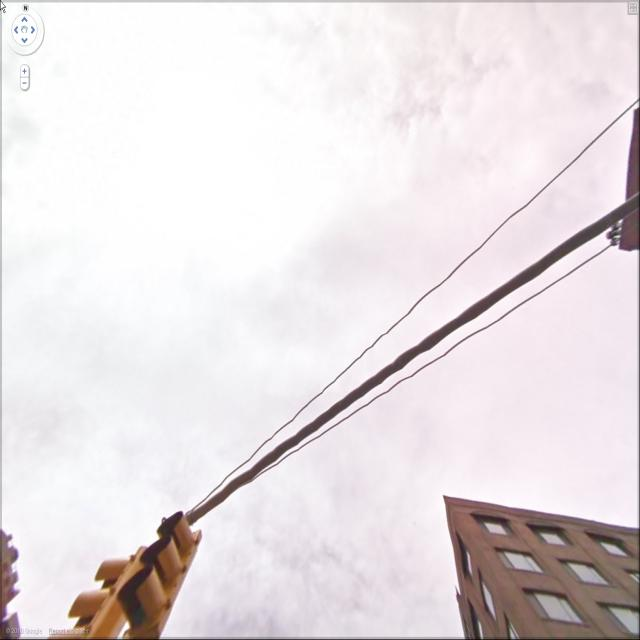b_1: (441, 483, 640, 639)
